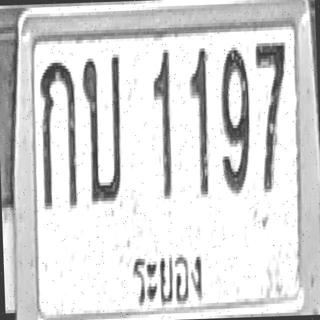A01: (38, 59, 78, 209)
A26: (81, 51, 124, 204)
N01: (188, 45, 212, 195), (151, 46, 174, 199)
N07: (254, 39, 290, 192)
N09: (218, 44, 252, 194)
P53: (126, 238, 214, 320)
